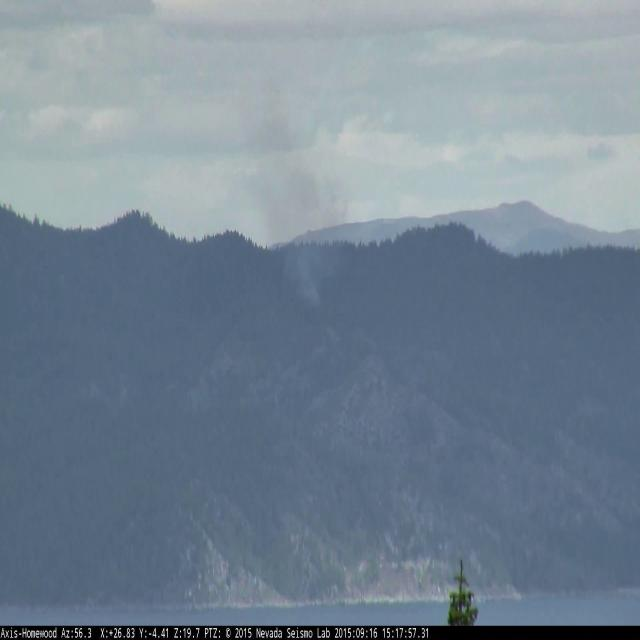smoke: (228, 72, 357, 323)
